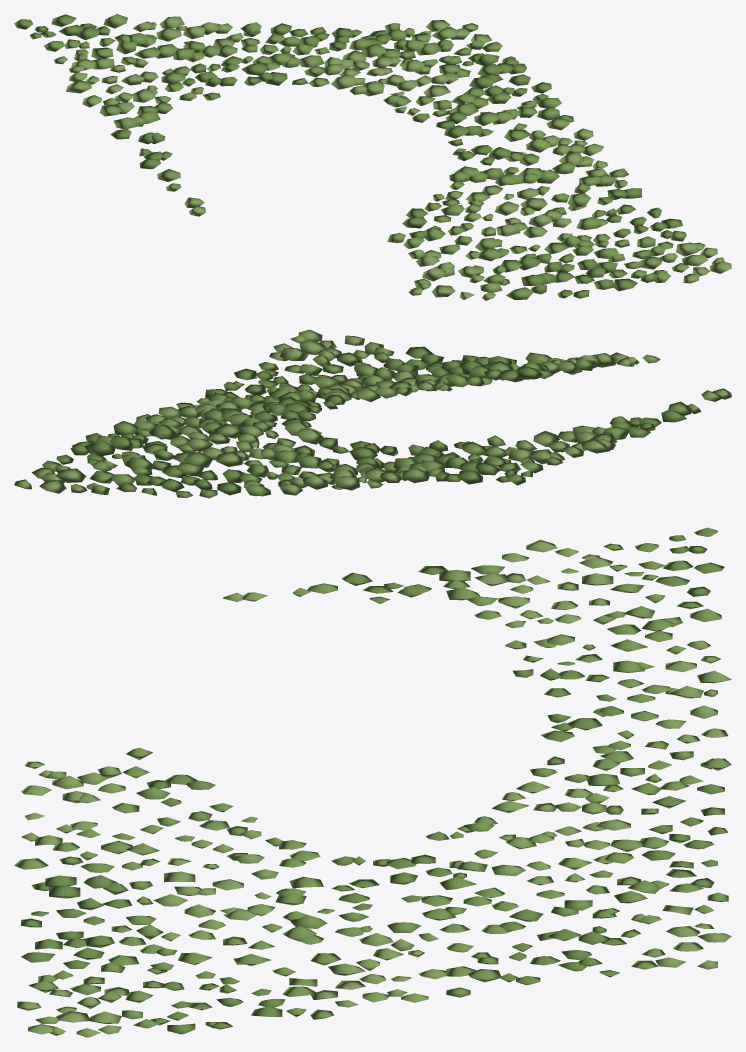
The model's file is canopy-1--2-0.glb.
3 renders of one model, top to bottom at view 1: azimuth 30°, elevation 25°; view 2: azimuth 150°, elevation 25°; view 3: azimuth 270°, elevation 25°, orthographic. The views are drawn at different scales.
Size of the model in its own units: 520 by 178 by 515.
1 material, 1 textured.
